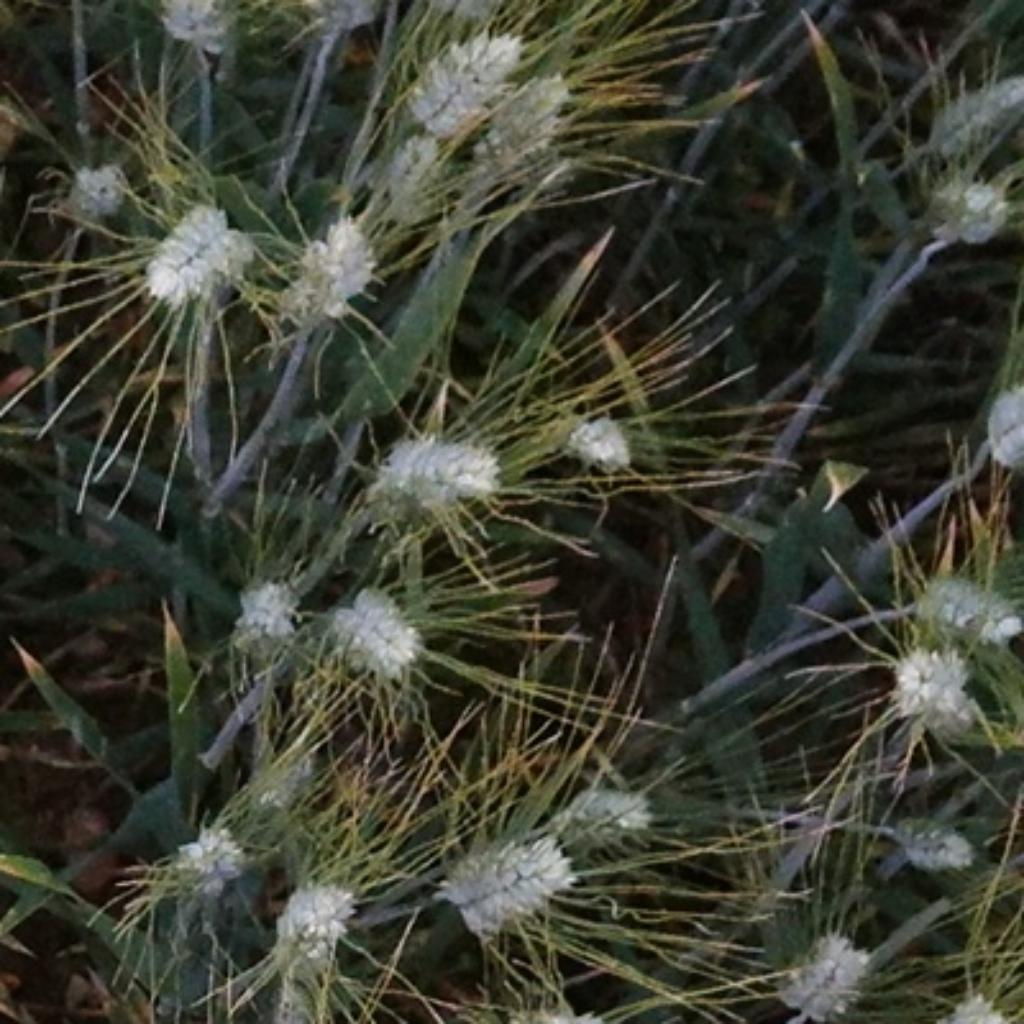0-0: (366, 12, 560, 163), (348, 412, 504, 527), (427, 811, 576, 931), (134, 186, 261, 324), (268, 204, 384, 332), (466, 78, 578, 192), (143, 806, 258, 916), (905, 557, 1023, 657), (767, 920, 879, 1024), (314, 573, 424, 678), (910, 67, 1023, 167), (261, 860, 358, 975), (542, 765, 657, 855), (908, 164, 1023, 254), (883, 629, 985, 729), (228, 743, 337, 830), (878, 801, 988, 885), (370, 125, 454, 222), (221, 569, 305, 663), (51, 150, 141, 236), (550, 414, 643, 485), (968, 376, 1024, 486), (918, 971, 1016, 1024), (154, 0, 234, 64), (299, 0, 377, 51)
